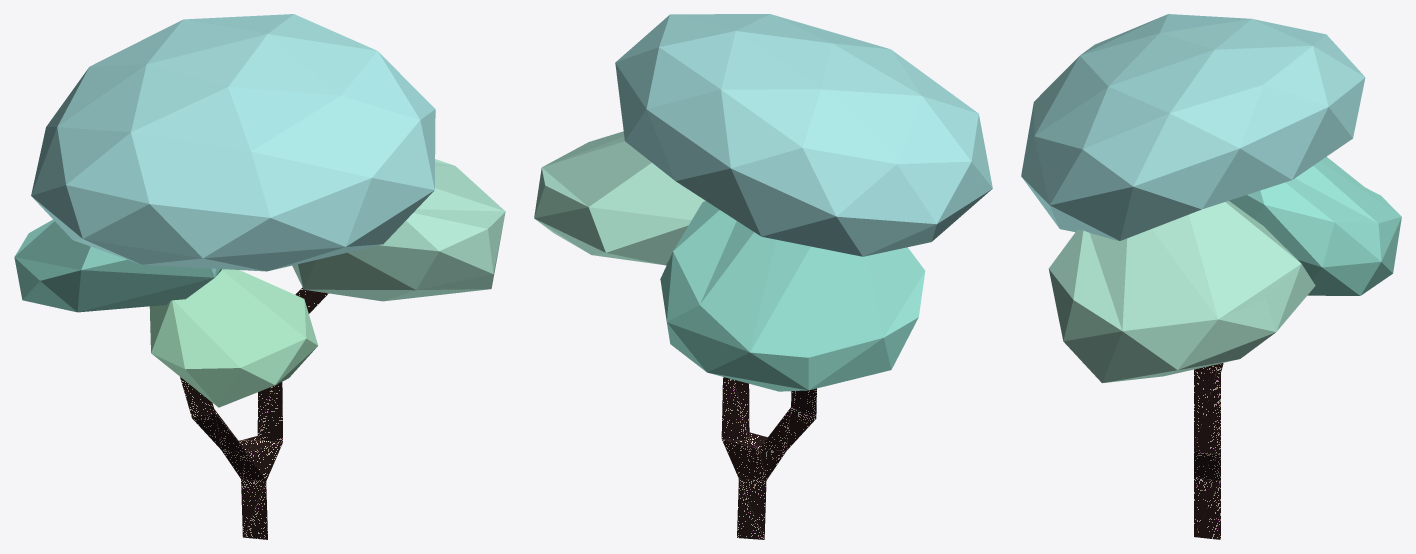
Rendered from LPTree_Tree_Type3_02_Model_instanced_l1_superhigh.glb.
3 renders of one model, left to right at view 1: azimuth 30°, elevation 25°; view 2: azimuth 150°, elevation 25°; view 3: azimuth 270°, elevation 25°, orthographic. The views are drawn at different scales.
Parts seen in each view (by area): view 1: Tree Type3 02 Model; view 2: Tree Type3 02 Model; view 3: Tree Type3 02 Model.
Boxes of the visible parts, x1,y1,x2,y2 form: Tree Type3 02 Model: (14, 14, 505, 539); Tree Type3 02 Model: (534, 14, 992, 539); Tree Type3 02 Model: (1021, 14, 1401, 539).
Bounding box in the file's own units: 2.35 × 2.67 × 1.87.
Materials: 5 (1 with a texture image).
